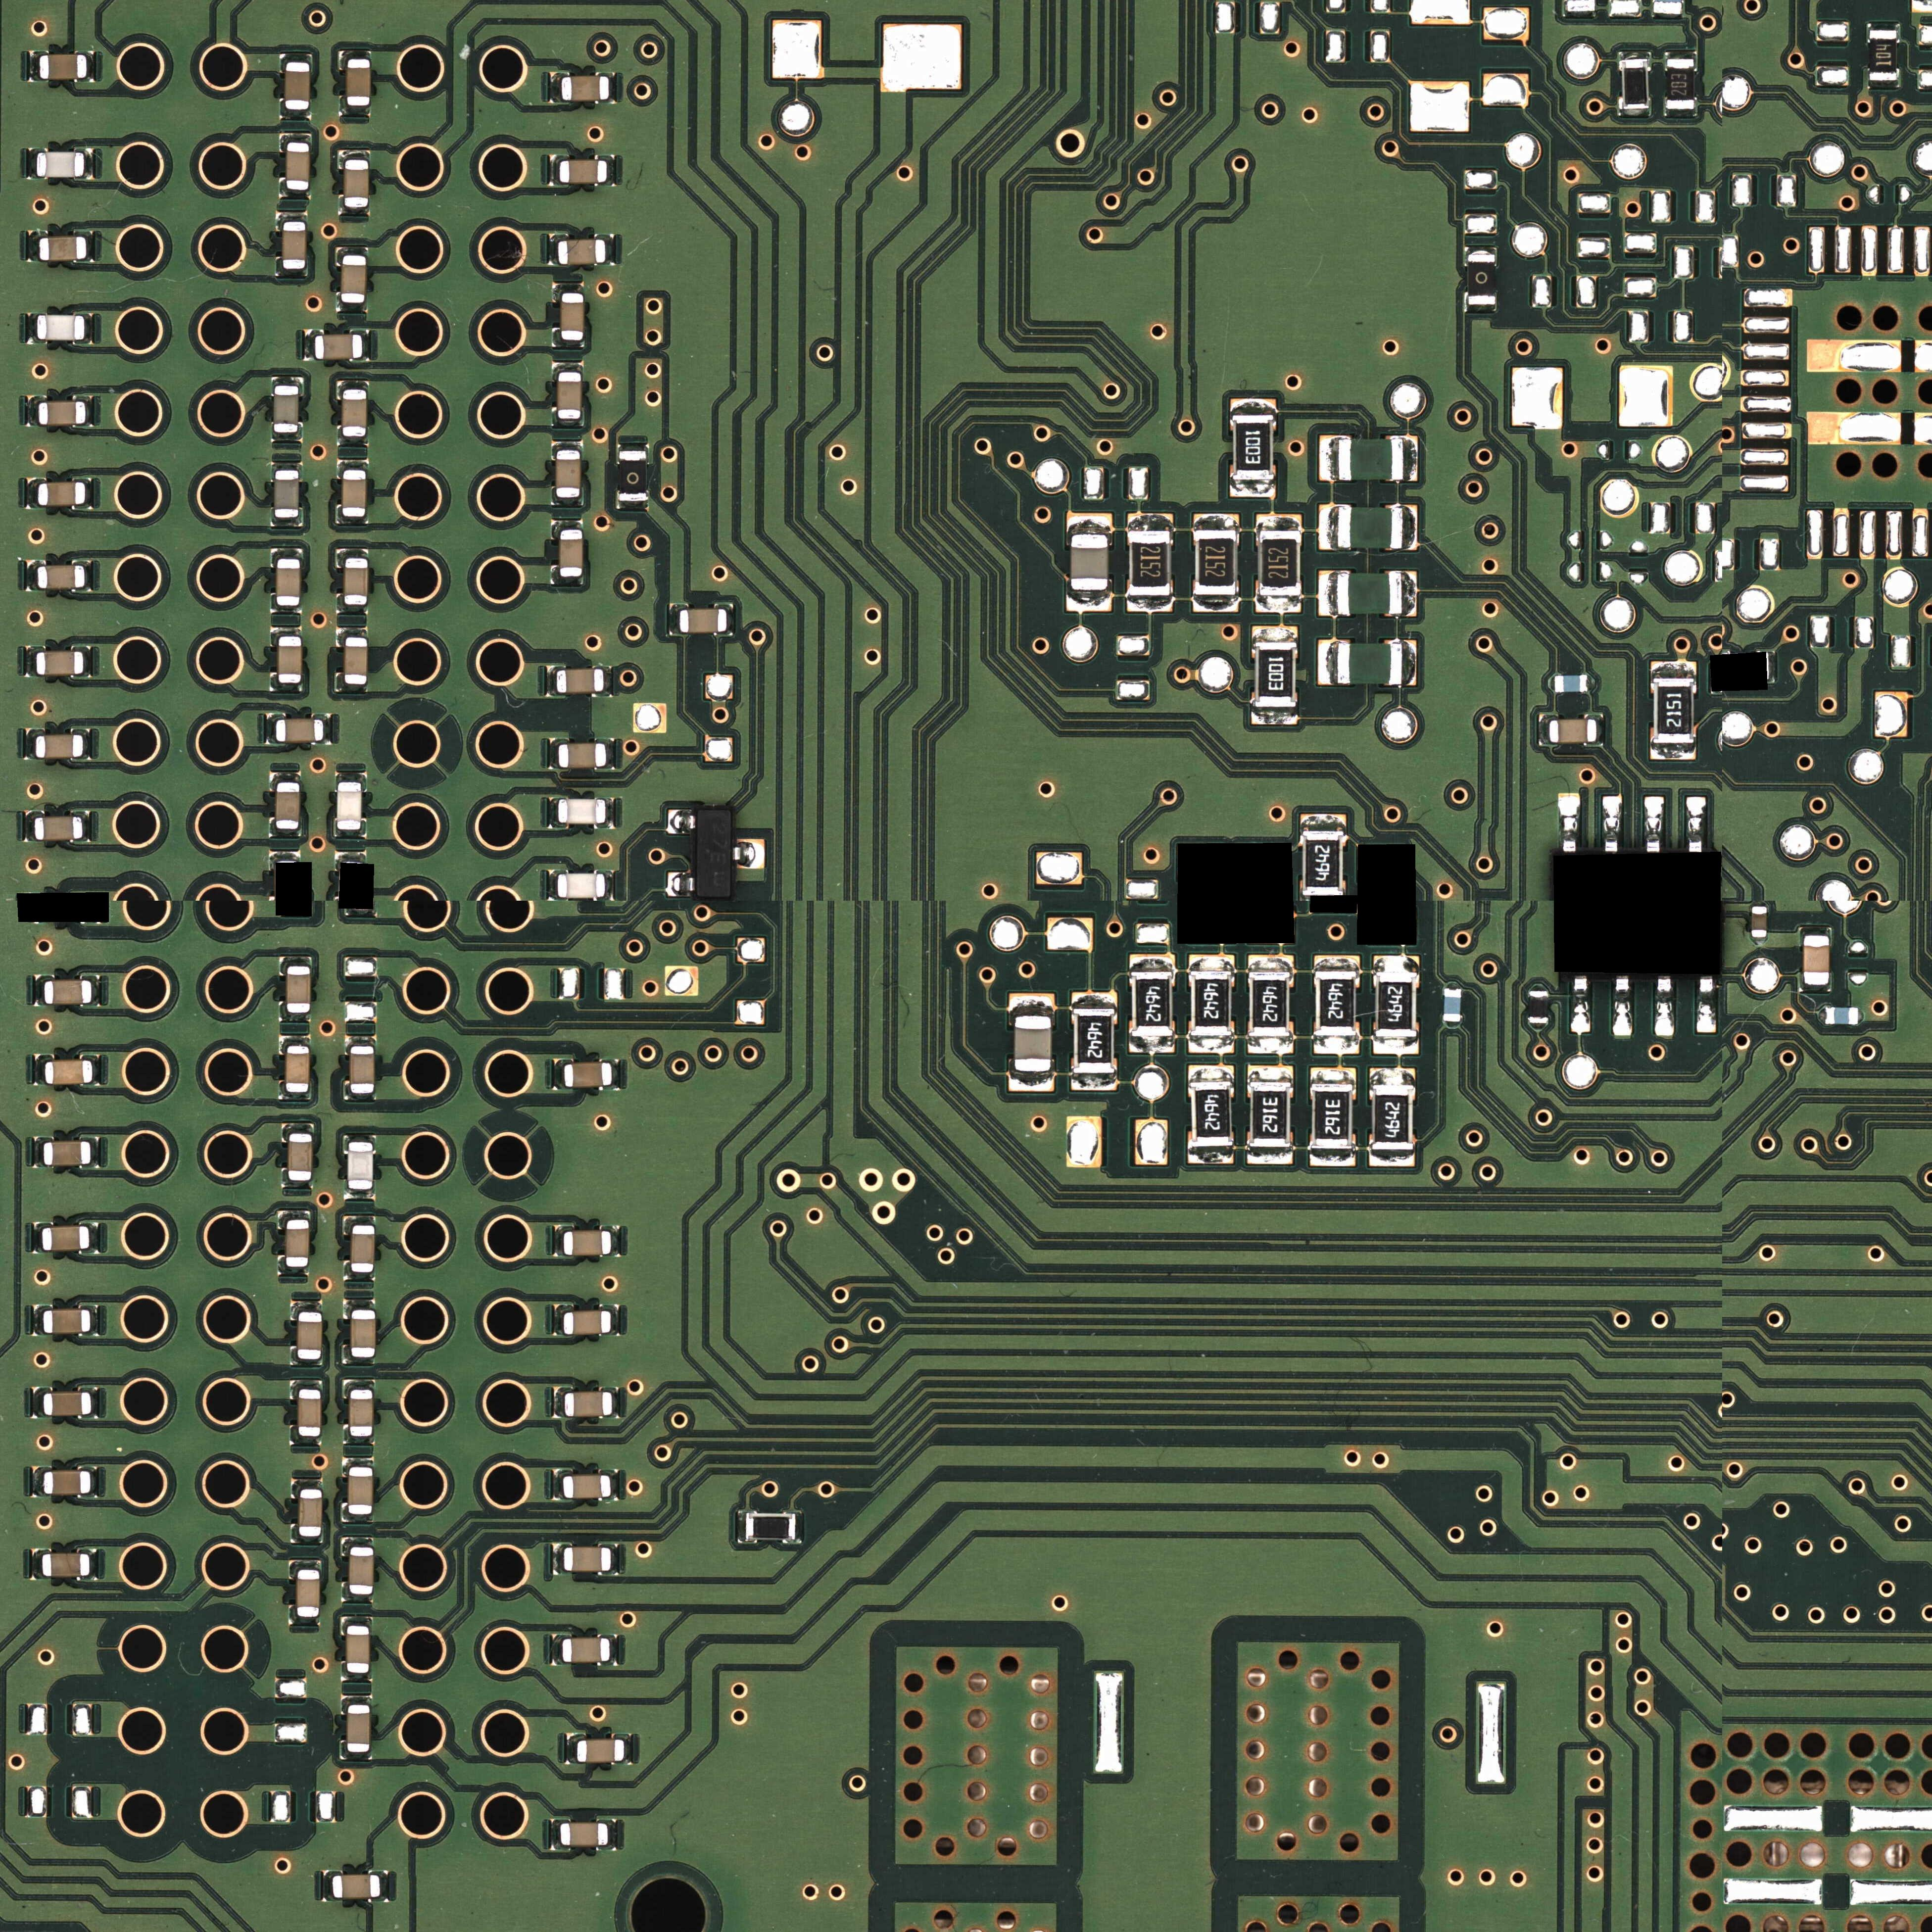Package: (696, 809, 731, 898), (1336, 643, 1402, 684), (1338, 438, 1403, 481), (1336, 573, 1402, 615), (1337, 507, 1403, 548), (1195, 531, 1237, 595), (1653, 678, 1694, 743), (1255, 642, 1296, 707), (1129, 531, 1170, 595), (1233, 415, 1273, 481), (1311, 1084, 1352, 1149), (1259, 531, 1300, 596), (1372, 1086, 1413, 1150), (1375, 972, 1416, 1037), (1191, 1082, 1232, 1147), (1250, 1082, 1290, 1147), (1074, 1009, 1114, 1073), (1132, 972, 1172, 1036), (1250, 972, 1289, 1037), (1316, 971, 1355, 1036), (1191, 971, 1231, 1036), (1304, 832, 1343, 895), (1070, 534, 1109, 590), (1014, 1016, 1052, 1071), (1666, 59, 1694, 109), (1468, 254, 1496, 304), (619, 451, 647, 501), (1870, 31, 1897, 81), (746, 1514, 795, 1540), (1804, 935, 1830, 985), (1623, 60, 1647, 109), (558, 799, 606, 824), (37, 315, 85, 340), (36, 152, 84, 177), (561, 76, 609, 101), (562, 1638, 610, 1663), (557, 873, 605, 898), (39, 54, 87, 80), (565, 1392, 612, 1417), (558, 743, 606, 768), (45, 1060, 93, 1085), (564, 1063, 612, 1087), (563, 1231, 611, 1256), (274, 386, 299, 433), (285, 62, 310, 109), (348, 1142, 373, 1189), (558, 240, 605, 264), (314, 335, 362, 359), (337, 782, 362, 829), (43, 1141, 91, 1166), (42, 1226, 90, 1251), (44, 980, 92, 1005), (351, 1310, 376, 1357), (564, 1547, 611, 1572), (35, 816, 83, 840), (333, 1875, 381, 1899), (341, 256, 366, 303), (274, 470, 299, 517), (556, 450, 580, 497), (344, 160, 369, 207), (349, 1547, 374, 1594), (44, 1470, 91, 1495), (348, 1467, 373, 1514), (350, 1046, 375, 1093), (297, 1312, 322, 1359), (288, 1134, 312, 1181), (36, 734, 83, 759), (38, 482, 85, 506), (556, 669, 604, 693), (276, 719, 323, 743), (38, 401, 86, 426), (39, 237, 87, 261), (44, 1392, 91, 1416), (42, 1553, 90, 1577), (564, 1310, 611, 1335), (342, 390, 367, 436), (560, 1823, 608, 1846), (563, 1475, 611, 1498), (36, 651, 83, 676), (679, 609, 726, 633), (43, 1309, 90, 1334), (559, 160, 607, 184), (37, 565, 84, 589), (282, 221, 306, 269), (276, 559, 300, 606), (342, 470, 366, 517), (557, 373, 581, 419), (286, 143, 310, 190), (559, 530, 583, 577), (346, 1626, 370, 1673), (286, 1220, 309, 1267), (1549, 719, 1596, 743), (346, 59, 371, 105), (276, 782, 299, 829), (287, 966, 310, 1013), (349, 1390, 373, 1436), (577, 1739, 624, 1763), (351, 1226, 375, 1272), (561, 293, 584, 340), (347, 1705, 370, 1752), (298, 1389, 321, 1436), (296, 1570, 320, 1617), (344, 559, 368, 605), (286, 1046, 309, 1092), (278, 636, 301, 683), (344, 638, 367, 684), (299, 1490, 322, 1536), (1529, 991, 1549, 1023), (1825, 1007, 1858, 1025), (1554, 675, 1588, 692), (1444, 988, 1461, 1021), (1751, 906, 1767, 937)
Solder: (1558, 794, 1581, 853), (1654, 976, 1674, 1035), (1612, 976, 1632, 1035), (1687, 796, 1707, 853), (1643, 795, 1664, 852), (1696, 976, 1716, 1033), (1570, 978, 1591, 1032), (1601, 795, 1621, 852), (1066, 591, 1112, 612), (1009, 994, 1055, 1015), (733, 839, 765, 869), (1067, 514, 1112, 533), (1009, 1072, 1054, 1091), (1319, 435, 1338, 481), (1249, 924, 1295, 943), (1178, 844, 1224, 863), (1251, 708, 1299, 725), (1187, 1146, 1234, 1164), (1319, 505, 1337, 550), (1313, 1036, 1359, 1054), (1318, 640, 1336, 685), (1229, 480, 1276, 497), (1318, 571, 1336, 616), (1369, 1068, 1416, 1085), (1372, 956, 1420, 972), (1193, 595, 1239, 613), (1255, 596, 1301, 613), (1309, 1149, 1355, 1166), (1188, 1036, 1234, 1054), (1071, 1074, 1117, 1091), (1247, 1148, 1293, 1164), (1302, 814, 1347, 831), (1127, 514, 1173, 531), (1188, 1065, 1234, 1082), (1373, 1037, 1419, 1054), (1248, 955, 1294, 972), (1358, 845, 1404, 862), (1129, 955, 1175, 971), (1129, 1036, 1174, 1053), (1248, 1037, 1293, 1054), (1230, 398, 1276, 415), (1370, 927, 1415, 944), (1189, 955, 1235, 971), (1193, 514, 1239, 530), (1071, 992, 1117, 1009), (1369, 1150, 1415, 1166), (1256, 514, 1302, 531), (1248, 1065, 1293, 1082), (1650, 662, 1696, 678), (1127, 596, 1173, 612), (1252, 627, 1298, 642), (1314, 955, 1360, 971), (1650, 744, 1696, 760), (667, 809, 695, 834), (1310, 1068, 1356, 1084), (1238, 844, 1284, 860), (1188, 927, 1234, 942), (667, 872, 695, 897), (1402, 571, 1417, 617), (1403, 505, 1417, 550), (1402, 640, 1416, 686), (1404, 436, 1418, 481), (335, 851, 366, 863), (291, 1301, 323, 1311), (304, 330, 315, 361), (271, 772, 301, 782), (344, 1299, 376, 1309), (550, 72, 561, 102), (280, 1035, 311, 1046), (552, 362, 583, 372), (1539, 715, 1549, 745), (554, 1387, 564, 1418), (270, 850, 300, 861), (265, 714, 276, 744), (272, 548, 302, 559), (605, 235, 616, 265), (669, 604, 679, 634), (566, 1734, 577, 1764), (342, 1537, 374, 1547), (548, 234, 558, 266), (553, 1304, 563, 1336), (553, 1225, 563, 1257), (28, 230, 38, 261), (337, 627, 368, 637), (33, 1387, 43, 1418), (291, 1479, 323, 1489), (338, 460, 368, 470), (28, 396, 38, 427), (336, 772, 366, 782), (281, 956, 311, 966), (345, 1036, 376, 1046), (283, 1123, 313, 1133), (553, 283, 584, 293), (552, 520, 583, 530), (552, 1635, 562, 1665), (553, 1544, 563, 1574), (340, 150, 370, 160), (33, 1467, 43, 1497), (380, 1871, 390, 1901), (547, 870, 557, 900), (290, 1380, 322, 1389), (279, 1210, 310, 1220), (290, 1436, 322, 1446), (342, 1457, 374, 1467), (344, 1379, 374, 1389), (277, 212, 308, 221), (271, 627, 302, 636), (25, 729, 35, 760), (35, 1054, 44, 1085), (549, 738, 558, 770), (546, 666, 556, 697), (281, 133, 311, 143), (340, 106, 371, 116), (26, 646, 35, 677), (27, 560, 36, 591), (345, 1216, 376, 1225), (552, 440, 582, 450), (549, 155, 559, 186), (553, 1469, 563, 1500), (27, 479, 37, 506), (24, 812, 34, 842), (341, 1616, 372, 1626), (548, 797, 558, 827), (611, 1226, 621, 1256), (290, 1560, 322, 1569), (338, 380, 368, 389), (272, 376, 302, 386), (270, 683, 303, 692), (27, 312, 36, 343), (271, 518, 302, 527), (344, 1190, 375, 1199), (606, 797, 615, 828), (1710, 662, 1719, 694), (338, 549, 369, 558), (33, 1222, 42, 1253), (605, 871, 614, 902), (552, 577, 584, 585), (85, 313, 94, 343), (34, 1137, 43, 1167), (33, 1305, 42, 1336), (32, 1549, 41, 1579), (342, 1695, 372, 1704), (323, 1871, 332, 1901), (280, 1013, 311, 1021), (552, 498, 583, 506), (617, 501, 648, 510), (338, 246, 368, 255), (281, 53, 311, 62), (30, 51, 39, 81), (323, 715, 332, 744), (1801, 926, 1831, 935), (280, 110, 311, 118), (277, 269, 308, 278), (337, 684, 368, 693), (737, 1511, 746, 1543), (336, 303, 367, 312), (338, 436, 368, 445), (344, 1437, 375, 1445), (555, 1059, 563, 1090), (551, 1819, 560, 1850), (340, 1753, 372, 1761), (341, 1594, 374, 1602), (1664, 109, 1696, 117), (272, 462, 302, 470), (28, 148, 36, 179), (35, 975, 44, 1006), (279, 1267, 309, 1275), (341, 1514, 373, 1522), (341, 50, 371, 59), (624, 1735, 632, 1764), (337, 517, 368, 525), (344, 1272, 375, 1280), (280, 1092, 311, 1100), (289, 1617, 320, 1625), (1619, 51, 1650, 59), (1770, 651, 1778, 682), (362, 331, 371, 360), (339, 207, 370, 215), (271, 433, 302, 441), (280, 190, 310, 198), (85, 148, 93, 179), (337, 605, 368, 613), (345, 1093, 376, 1101), (553, 419, 584, 427), (607, 155, 615, 186), (283, 1181, 313, 1189), (611, 1305, 619, 1336), (795, 1512, 803, 1542), (1868, 81, 1898, 89), (1800, 985, 1831, 993), (343, 1357, 375, 1364), (553, 340, 585, 348), (270, 829, 301, 837), (334, 830, 366, 837), (291, 1537, 323, 1544), (618, 443, 648, 451), (610, 1635, 618, 1665), (1666, 51, 1695, 59), (1620, 109, 1649, 117), (1869, 22, 1898, 30), (271, 606, 302, 613), (341, 1673, 372, 1681), (608, 1819, 616, 1850), (345, 1134, 375, 1142), (726, 605, 734, 634), (84, 646, 92, 677), (83, 729, 91, 760), (609, 72, 616, 103), (1465, 246, 1496, 254), (90, 1223, 97, 1253), (1465, 305, 1496, 312), (91, 1305, 98, 1335), (91, 1138, 98, 1167), (1596, 716, 1604, 744), (92, 976, 98, 1006), (93, 1055, 99, 1085), (291, 1359, 323, 1366), (611, 1470, 618, 1500), (86, 396, 93, 427), (85, 561, 92, 591), (90, 1549, 96, 1579), (607, 739, 613, 770), (612, 1060, 618, 1090), (611, 1544, 618, 1574), (87, 51, 94, 81), (83, 811, 89, 841), (612, 1388, 619, 1418), (604, 667, 611, 696), (87, 232, 93, 262), (86, 478, 92, 508), (91, 1388, 97, 1417), (91, 1467, 97, 1497), (1818, 1007, 1825, 1025), (1529, 1023, 1547, 1030), (1588, 676, 1595, 691), (1444, 1021, 1461, 1028), (1444, 982, 1461, 989), (1548, 676, 1555, 691), (1530, 985, 1547, 991), (1751, 900, 1767, 907), (1858, 1009, 1864, 1024), (1751, 937, 1767, 944)
